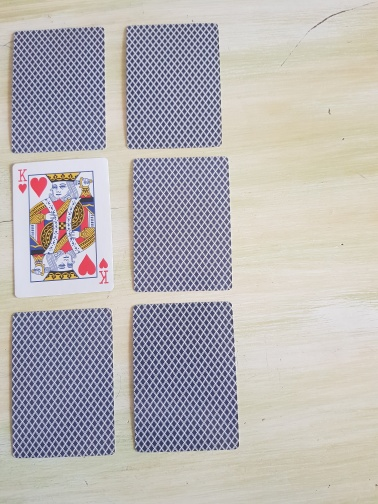king: (11, 156, 114, 299)
